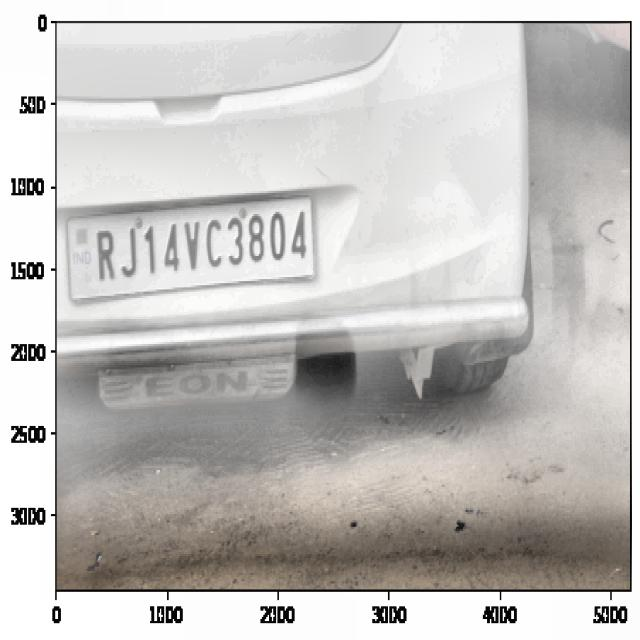license_plate: (88, 209, 314, 285)
